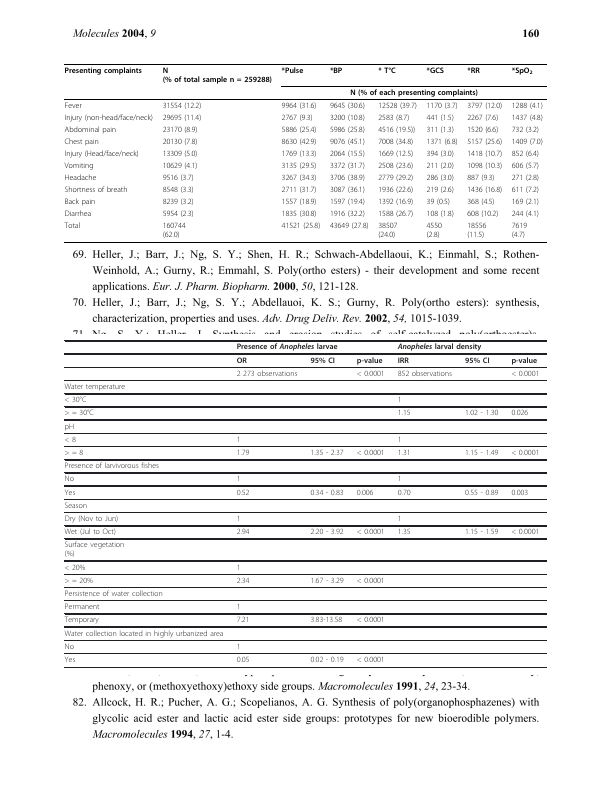borderless: (63, 339, 547, 667), (63, 62, 547, 242)
cell: (162, 66, 273, 84), (64, 629, 224, 639), (349, 88, 479, 98), (64, 541, 125, 559), (236, 343, 338, 352), (64, 113, 154, 123), (64, 590, 164, 599), (64, 462, 160, 471), (397, 343, 482, 352), (64, 149, 140, 159), (64, 66, 143, 75), (64, 185, 128, 195), (236, 369, 298, 379), (397, 369, 453, 379), (64, 383, 126, 392), (64, 125, 117, 135), (64, 515, 119, 524), (64, 528, 117, 537), (162, 221, 186, 239), (377, 101, 418, 111), (162, 101, 202, 111), (162, 113, 202, 123), (377, 125, 416, 135), (377, 221, 398, 239), (466, 221, 487, 239), (329, 101, 366, 111), (466, 101, 503, 111), (329, 113, 366, 123), (329, 125, 366, 135), (329, 137, 366, 147), (377, 137, 414, 147), (466, 137, 503, 147), (329, 149, 366, 159), (377, 149, 414, 159), (466, 149, 503, 159), (329, 161, 366, 171), (377, 161, 414, 171), (466, 161, 503, 171), (329, 173, 366, 183), (377, 173, 414, 183), (329, 185, 366, 195), (377, 185, 414, 195), (466, 185, 503, 195), (281, 101, 317, 111), (162, 125, 198, 135), (281, 125, 317, 135), (64, 137, 100, 147), (162, 137, 198, 147), (281, 137, 317, 147), (162, 149, 198, 159), (281, 149, 317, 159), (162, 161, 198, 171), (281, 161, 317, 171), (281, 173, 317, 183), (281, 185, 317, 195), (281, 221, 321, 230), (329, 221, 369, 230), (309, 488, 345, 498), (309, 576, 345, 586), (309, 655, 345, 665), (464, 488, 499, 498), (329, 197, 366, 206), (377, 197, 414, 206), (329, 209, 366, 218), (377, 209, 414, 218), (425, 101, 458, 111), (511, 101, 544, 111), (281, 113, 314, 123), (377, 113, 410, 123), (466, 113, 499, 123), (511, 113, 544, 123), (466, 125, 499, 135), (425, 137, 458, 147), (511, 137, 544, 147), (64, 173, 97, 183), (162, 173, 195, 183), (162, 185, 195, 195), (281, 197, 317, 206), (281, 209, 317, 218), (425, 221, 443, 239), (309, 449, 345, 458), (309, 528, 345, 537), (64, 603, 100, 612), (64, 616, 100, 625), (464, 409, 499, 418), (464, 449, 499, 458), (464, 528, 499, 537), (511, 221, 528, 239), (309, 616, 343, 625), (425, 113, 455, 123), (425, 125, 455, 135), (425, 149, 455, 159), (64, 161, 94, 171), (425, 161, 455, 171), (425, 173, 455, 183), (425, 185, 455, 195), (356, 369, 386, 379), (510, 369, 540, 379), (64, 576, 94, 586), (356, 576, 386, 586), (356, 655, 386, 665), (162, 197, 195, 206), (162, 209, 195, 218), (466, 209, 499, 218), (511, 125, 540, 135), (511, 149, 540, 159), (511, 161, 540, 171), (466, 173, 495, 183), (511, 173, 540, 183), (511, 185, 540, 195), (64, 197, 96, 206), (510, 356, 538, 366), (64, 409, 95, 418), (425, 209, 455, 218), (309, 356, 336, 366), (356, 356, 383, 366), (356, 449, 386, 458), (510, 449, 540, 458), (356, 528, 386, 537), (510, 528, 540, 537), (356, 616, 386, 625), (466, 197, 495, 206), (511, 197, 540, 206), (511, 209, 540, 218), (464, 356, 490, 366), (64, 209, 92, 218), (64, 501, 88, 511), (425, 197, 451, 206), (511, 66, 534, 76), (64, 563, 86, 573), (281, 66, 304, 75), (64, 396, 87, 405), (64, 101, 83, 111), (510, 488, 529, 498), (377, 66, 397, 75), (425, 66, 445, 75), (64, 449, 84, 458), (356, 488, 374, 498), (510, 409, 529, 418), (64, 221, 81, 230), (236, 488, 250, 498), (397, 488, 411, 498), (236, 576, 250, 586), (236, 655, 250, 665), (466, 66, 481, 75), (397, 356, 410, 366), (64, 435, 77, 445), (329, 66, 343, 75), (397, 409, 411, 418), (236, 449, 250, 458), (397, 449, 411, 458), (236, 528, 250, 537), (397, 528, 411, 537), (236, 616, 250, 625), (236, 356, 248, 366), (64, 488, 76, 498), (64, 655, 76, 665), (64, 422, 75, 432), (64, 642, 75, 652), (64, 475, 75, 484), (397, 435, 403, 445), (397, 396, 403, 405), (397, 475, 403, 484), (397, 515, 403, 524), (236, 435, 241, 445), (236, 563, 241, 573), (236, 642, 241, 652), (236, 475, 241, 484), (236, 515, 241, 524), (236, 603, 241, 612)
